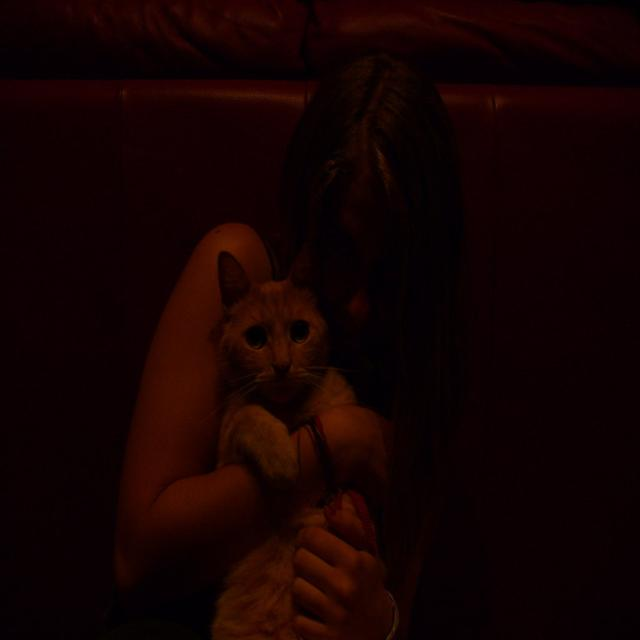Cat: (177, 231, 418, 640)
People: (106, 44, 474, 640)
